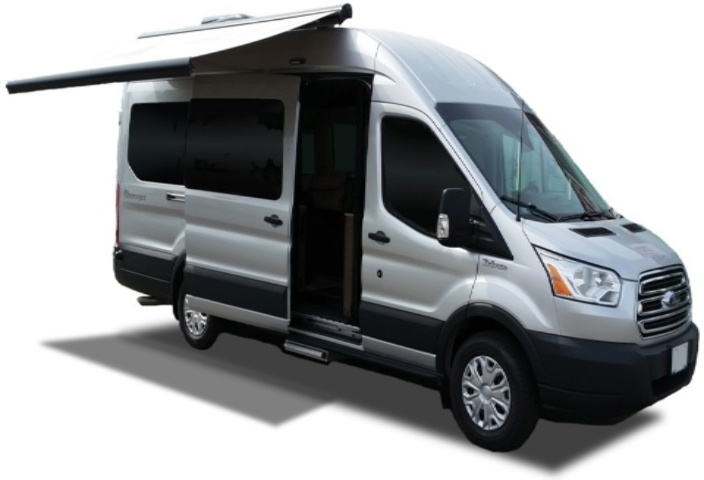van: (20, 12, 704, 455)
